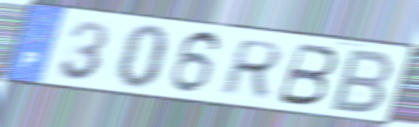0: (111, 22, 173, 92)
3: (58, 19, 113, 83)
6: (167, 28, 229, 96)
B: (326, 47, 397, 116), (272, 40, 341, 108)
R: (215, 37, 287, 99)
